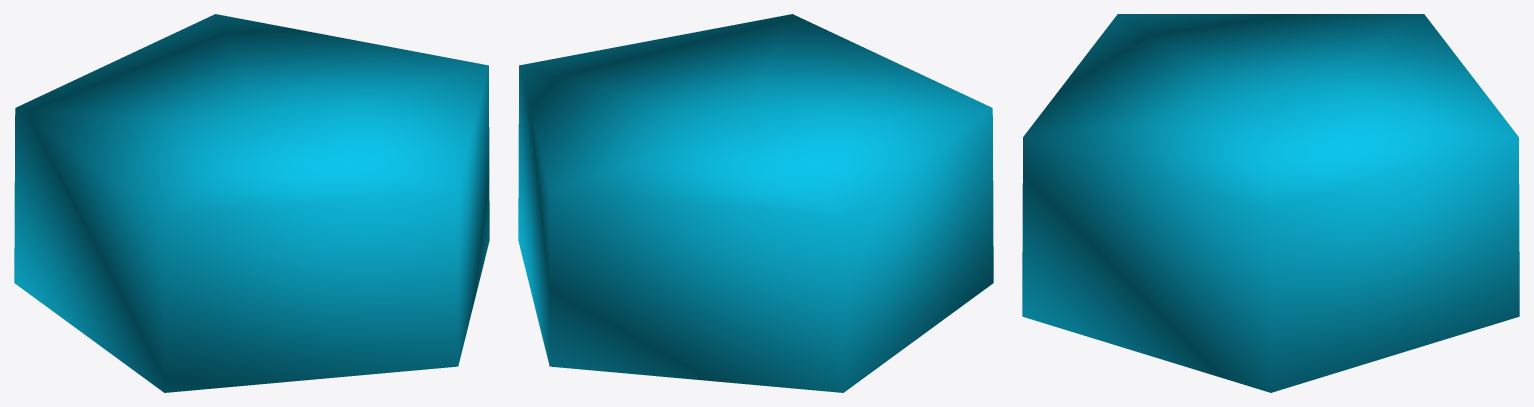
Rendered from Canned_Food_02_Lod2.fbx.
3 renders of one model, left to right at view 1: azimuth 30°, elevation 25°; view 2: azimuth 150°, elevation 25°; view 3: azimuth 270°, elevation 25°, orthographic. The views are drawn at different scales.
Visible parts, largest first — view 1: Canned_Food_02_Lod2; view 2: Canned_Food_02_Lod2; view 3: Canned_Food_02_Lod2.
Boxes of the visible parts, left/top/right/bottom form: Canned_Food_02_Lod2: left=14, top=14, right=489, bottom=392; Canned_Food_02_Lod2: left=518, top=14, right=993, bottom=392; Canned_Food_02_Lod2: left=1022, top=14, right=1519, bottom=392.
Bounding box in the file's own units: 10.51 × 4.39 × 11.05.
